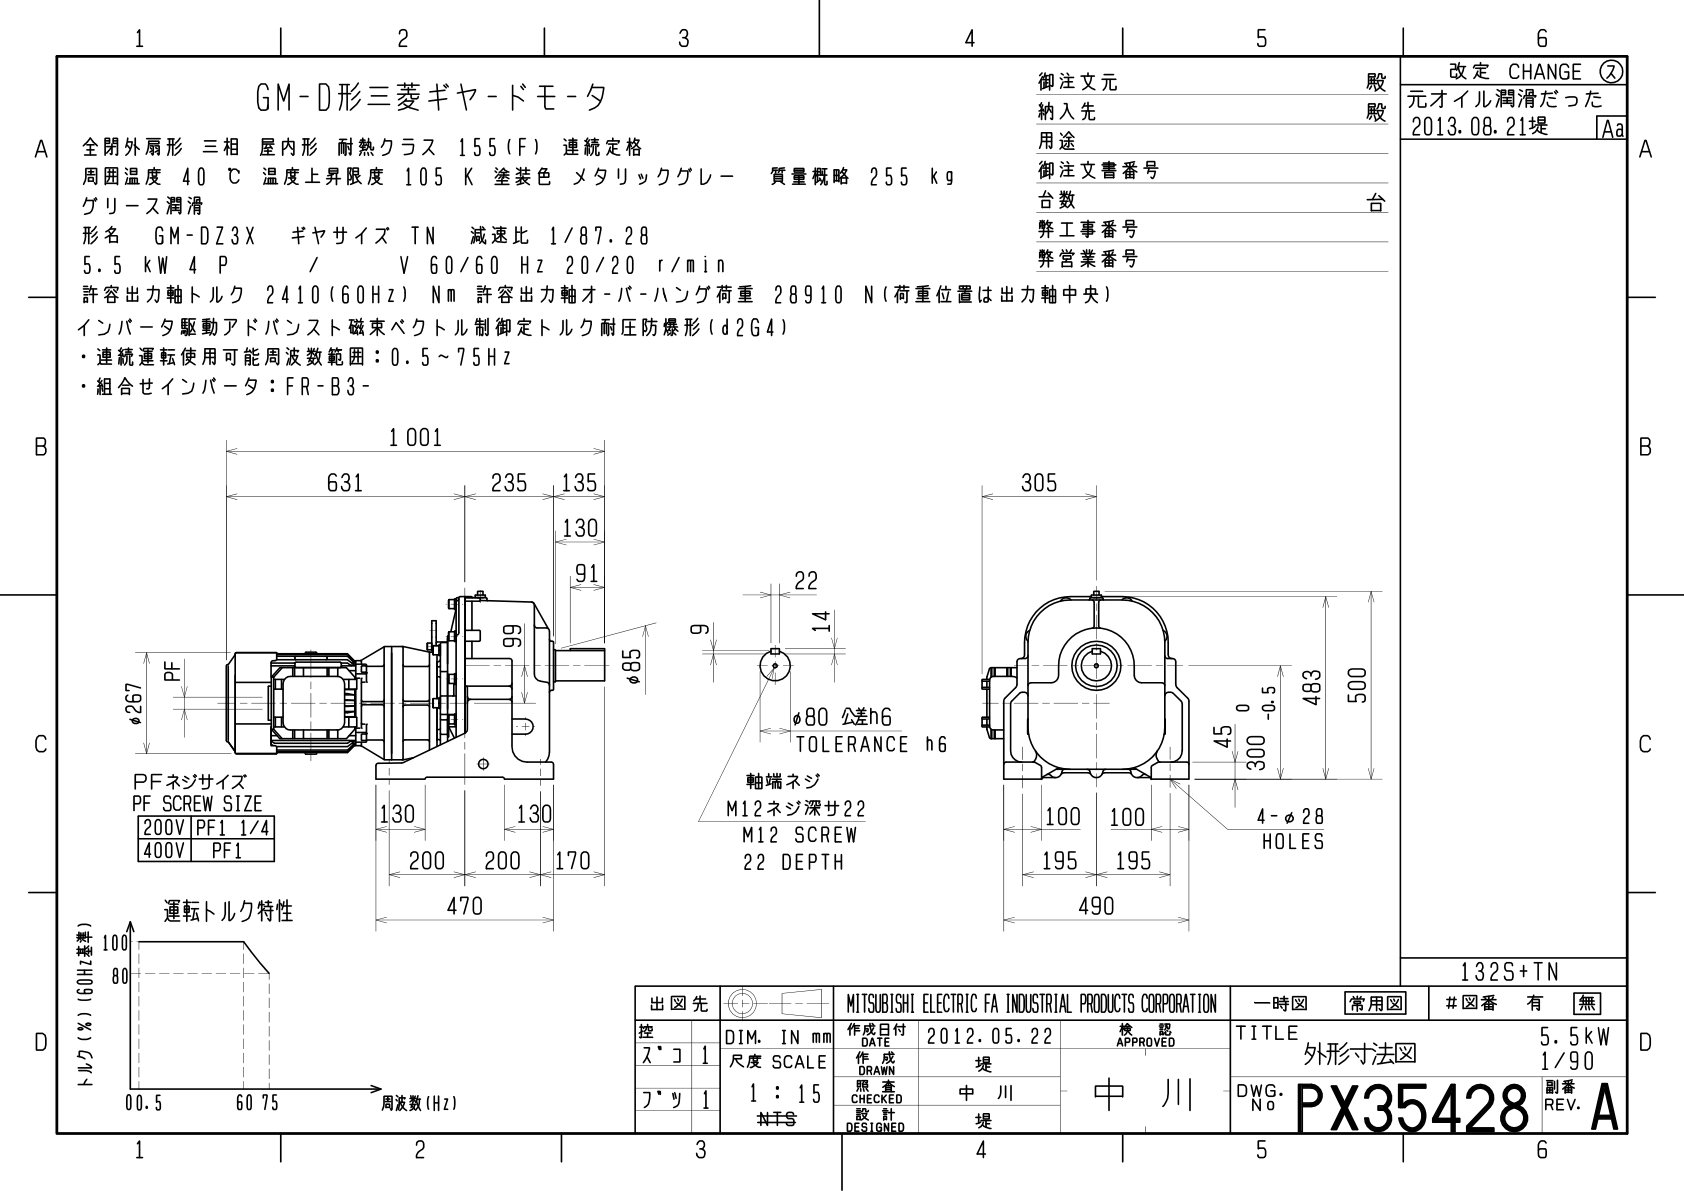GM_D_制御屋内_三相_脚: (63, 410, 1397, 969)
